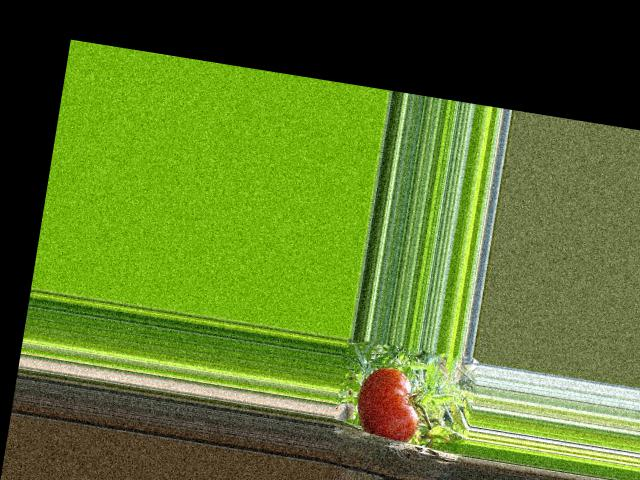tomato: (353, 363, 427, 444)
